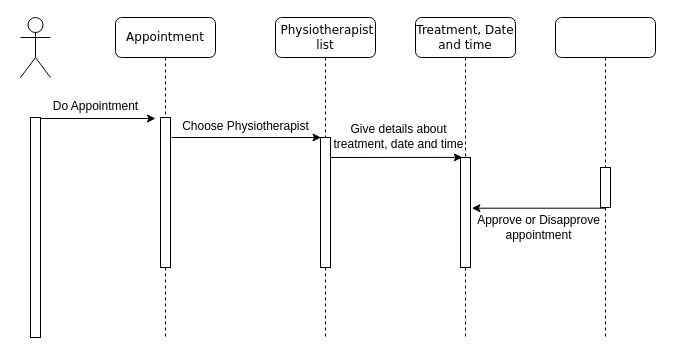
Some shapes in this 673 by 355 pixel diagram are drawn without their labels. Each missing label, with the box of its shape:
Check availability: (554, 16, 656, 338)
Patient: (20, 16, 50, 78)
